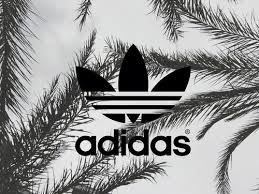adidas: (75, 44, 193, 156)
